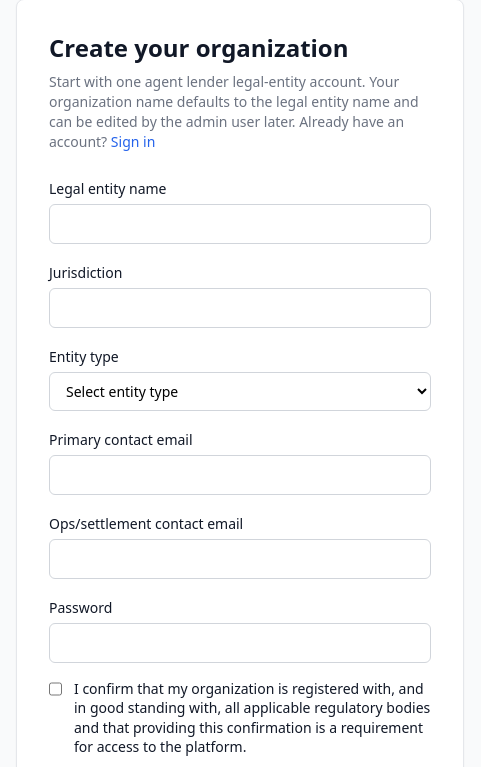
Test: AgentRegisterPage › shows attestation error when checkbox is unchecked and form is otherwise valid
Fill all text fields validly but do not check the attestation box
In the field labelled "Legal entity name": [240, 224] box [49,204,431,244], type "Atlas Lending"
In the field labelled "Jurisdiction": [240, 308] box [49,288,431,328], type "New York, USA"
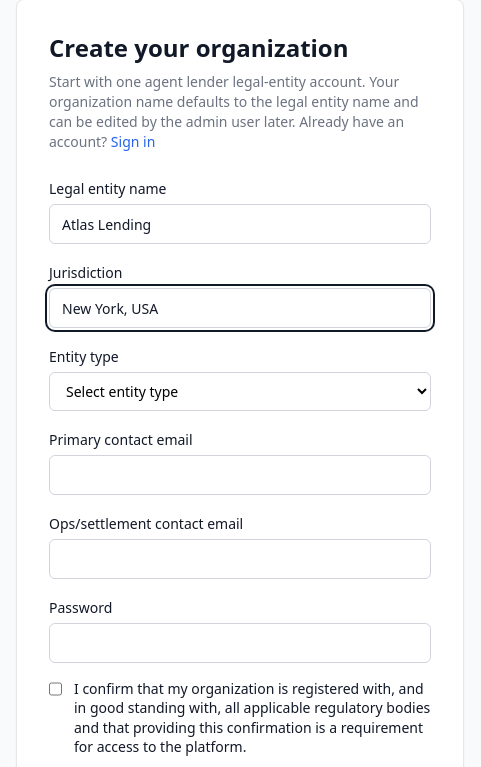
Select "Fund" in the dropdown labelled "Entity type": [240, 392] box [49,372,431,411]
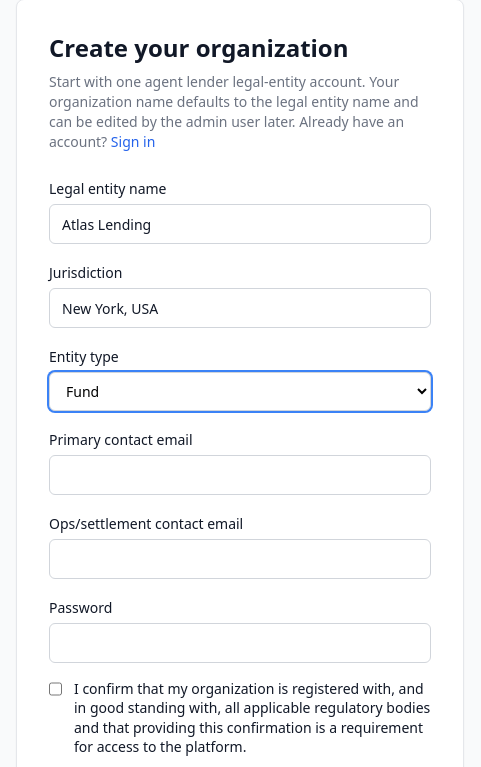
In the field labelled "Primary contact email": [240, 475] box [49,455,431,495], type "atlas@example.com"
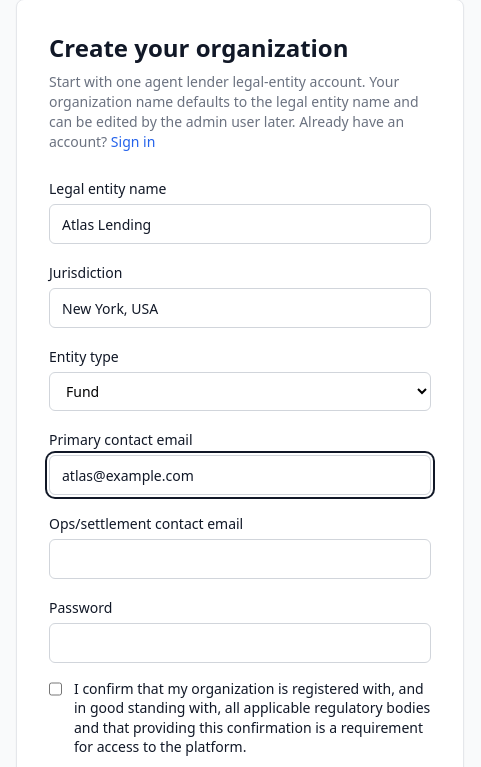
In the field labelled "Ops/settlement contact email": [240, 559] box [49,539,431,579], type "ops@example.com"
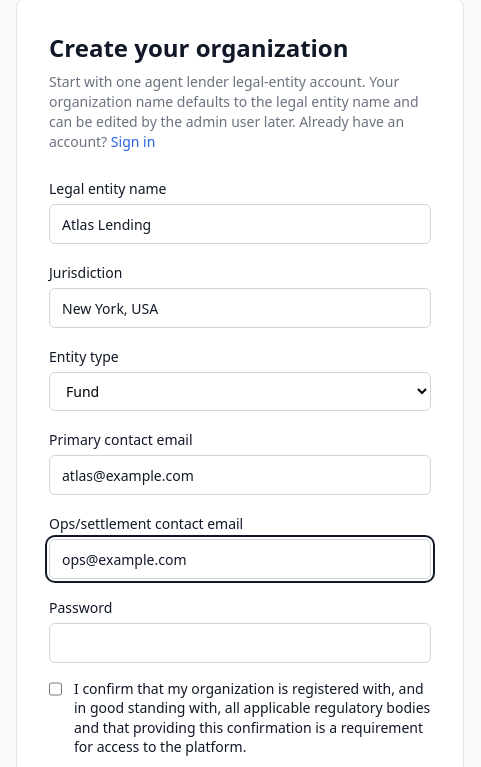
In the password field labelled "Password": [240, 643] box [49,623,431,663], type "Atlas@Str0ng!2026"
(page scrolled)
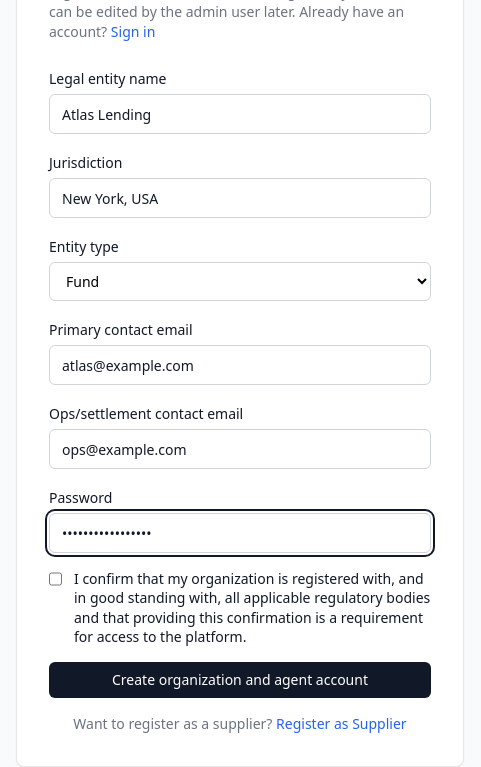
Do NOT click the attestation checkbox
Click the button "Create organization and agent account": [240, 680] box [49,662,431,698]
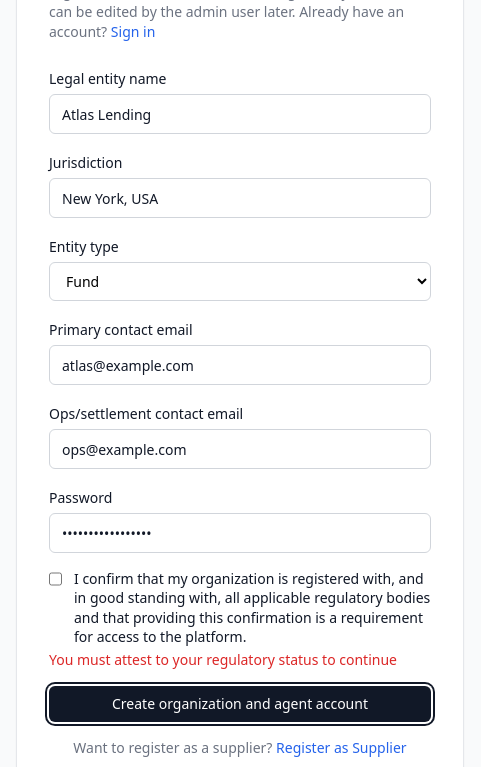
Expected: the text "You must attest to your regulatory status to continue" is shown, [49,650,431,670]
